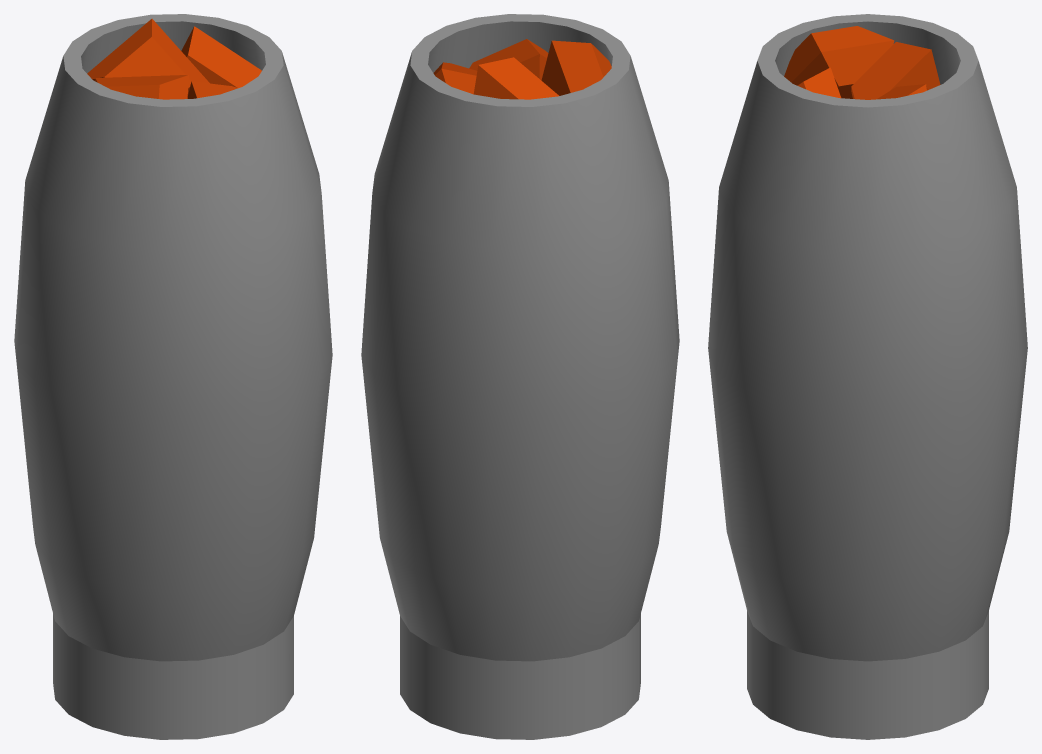
Rendered from WidePotWithOrichalcum.FBX.
The picture shows the model from 3 angles, left to right: view 1: azimuth 30°, elevation 25°; view 2: azimuth 150°, elevation 25°; view 3: azimuth 270°, elevation 25°; orthographic projection.
Parts seen in each view (by area): view 1: WidePot, OrichalcumPickup003, OrichalcumPickup004, OrichalcumPickup001, OrichalcumPickup002; view 2: WidePot, OrichalcumPickup001, OrichalcumPickup003, OrichalcumPickup002, OrichalcumPickup004; view 3: WidePot, OrichalcumPickup001, OrichalcumPickup003, OrichalcumPickup002.
Boxes of the visible parts, box(x1,y1,x2,y2) form: WidePot: box(14, 14, 332, 739); OrichalcumPickup003: box(87, 18, 209, 95); OrichalcumPickup004: box(181, 26, 261, 87); OrichalcumPickup001: box(95, 75, 188, 99); OrichalcumPickup002: box(187, 81, 238, 98); WidePot: box(361, 14, 679, 739); OrichalcumPickup001: box(541, 40, 611, 95); OrichalcumPickup003: box(473, 57, 558, 99); OrichalcumPickup002: box(469, 39, 548, 80); OrichalcumPickup004: box(433, 62, 477, 94); WidePot: box(708, 14, 1027, 739); OrichalcumPickup001: box(784, 26, 894, 98); OrichalcumPickup003: box(851, 42, 940, 99); OrichalcumPickup002: box(797, 67, 841, 98).
Bounding box in the file's own units: 40.34 × 89.69 × 40.34.
